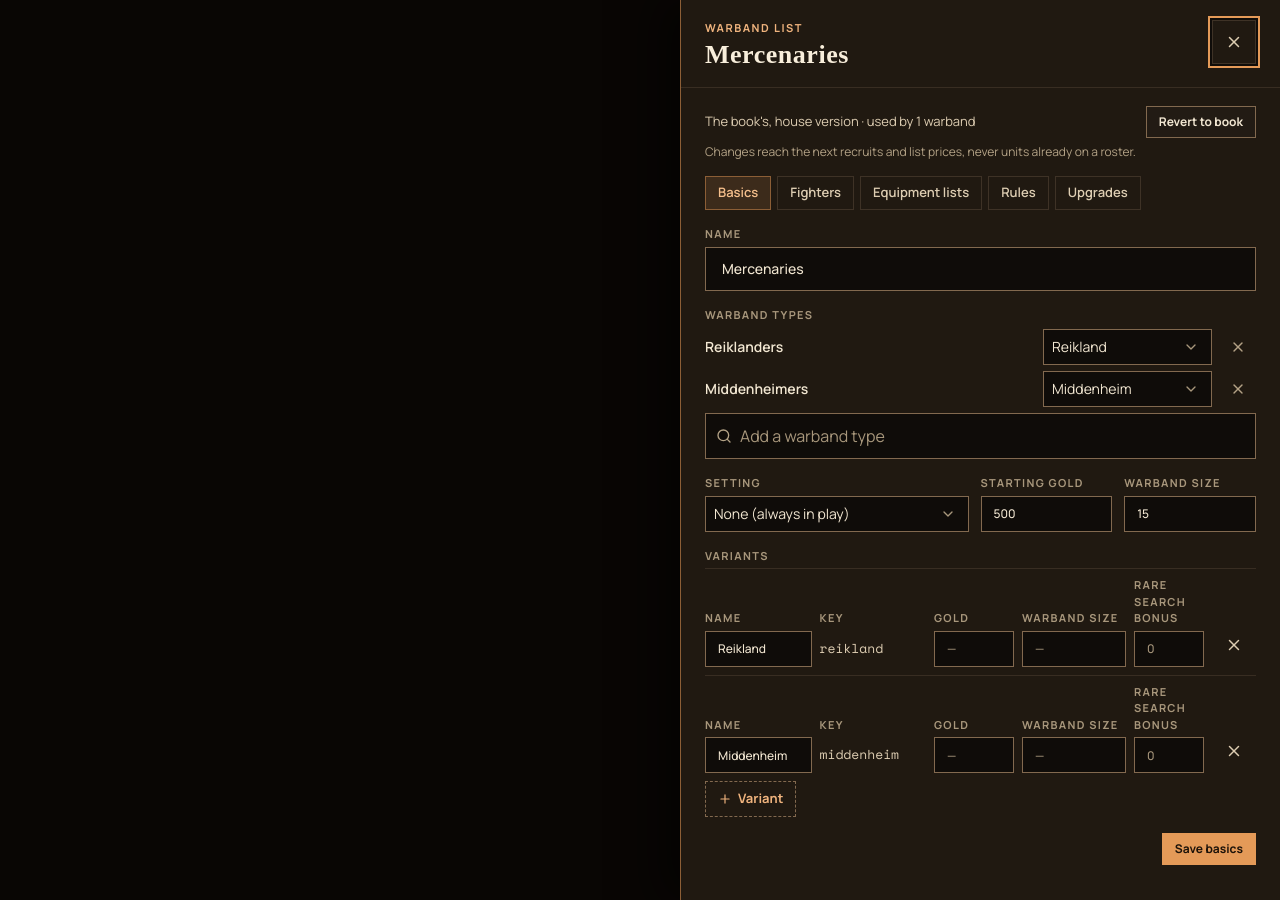
Test case: The template editor › says what Revert loses before it goes back to the book
The width and height of the screenshot is (1280, 900).
Click the button "Revert to book". click: (1201, 122)
box: [1146,106,1256,138]
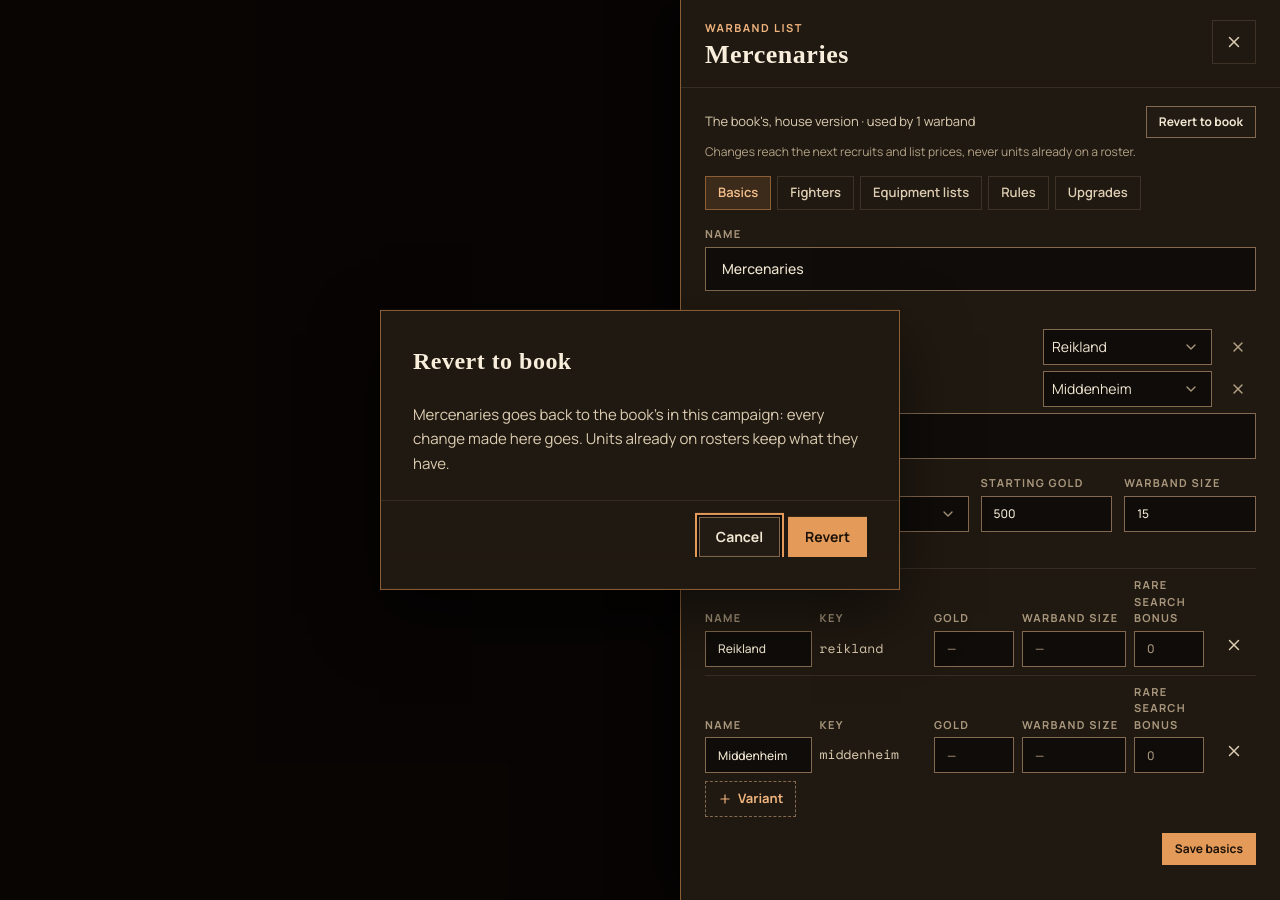
Check: the text "Mercenaries goes back to the book's in this campaign: every change made here goes. Units already on rosters keep what th" is shown, box [413,404,858,474]
Click the button "Revert". click: (828, 537)
box: [788,517,867,557]
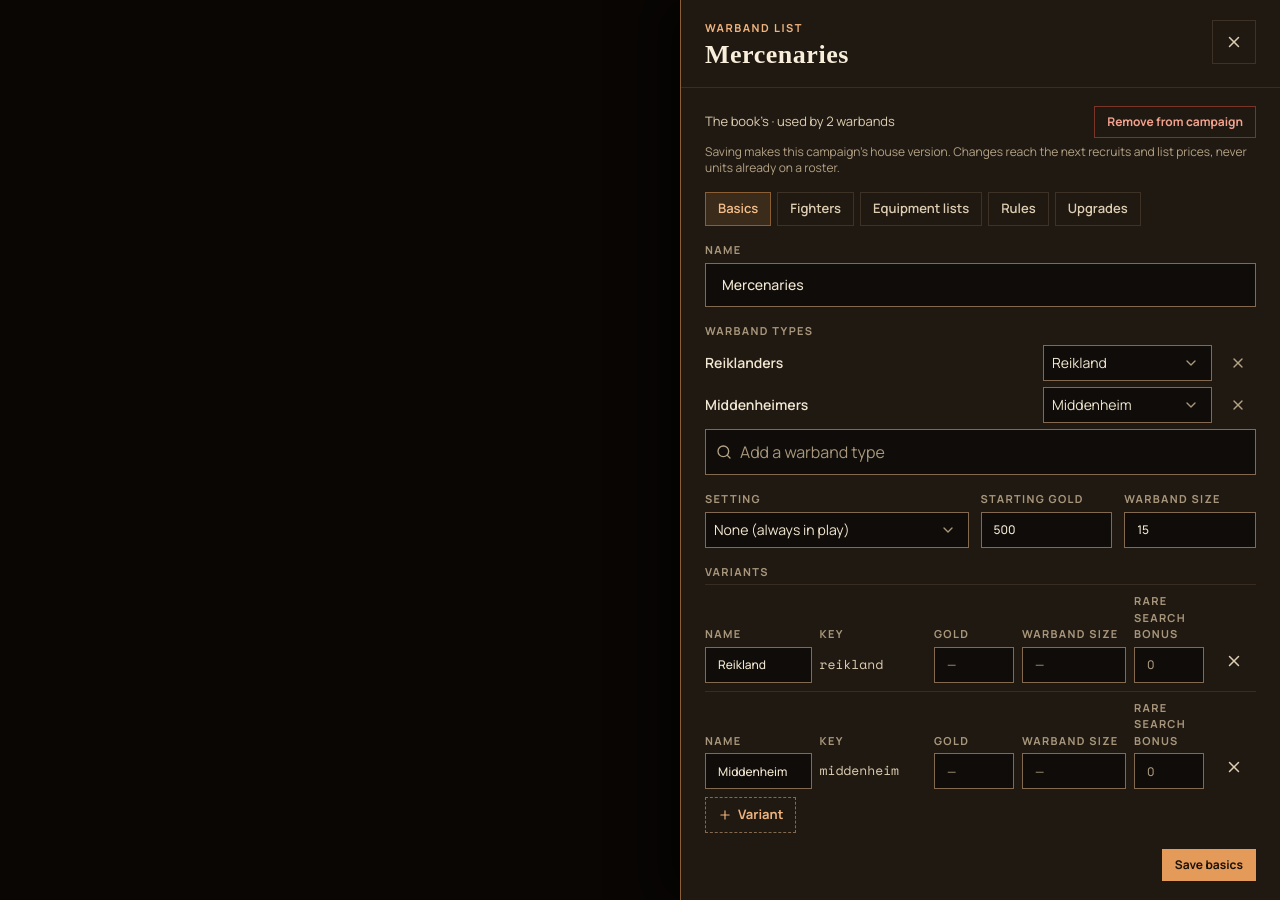
Check: the text "The book's · used by 2 warbands" is shown, box [705,112,895,132]
